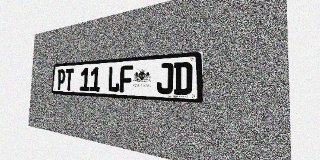1: (89, 67, 100, 92), (80, 67, 90, 91)
D: (173, 61, 192, 95)
F: (119, 65, 133, 93)
J: (156, 63, 173, 94)
L: (107, 66, 120, 92)
P: (57, 69, 65, 90)
T: (65, 68, 74, 91)
